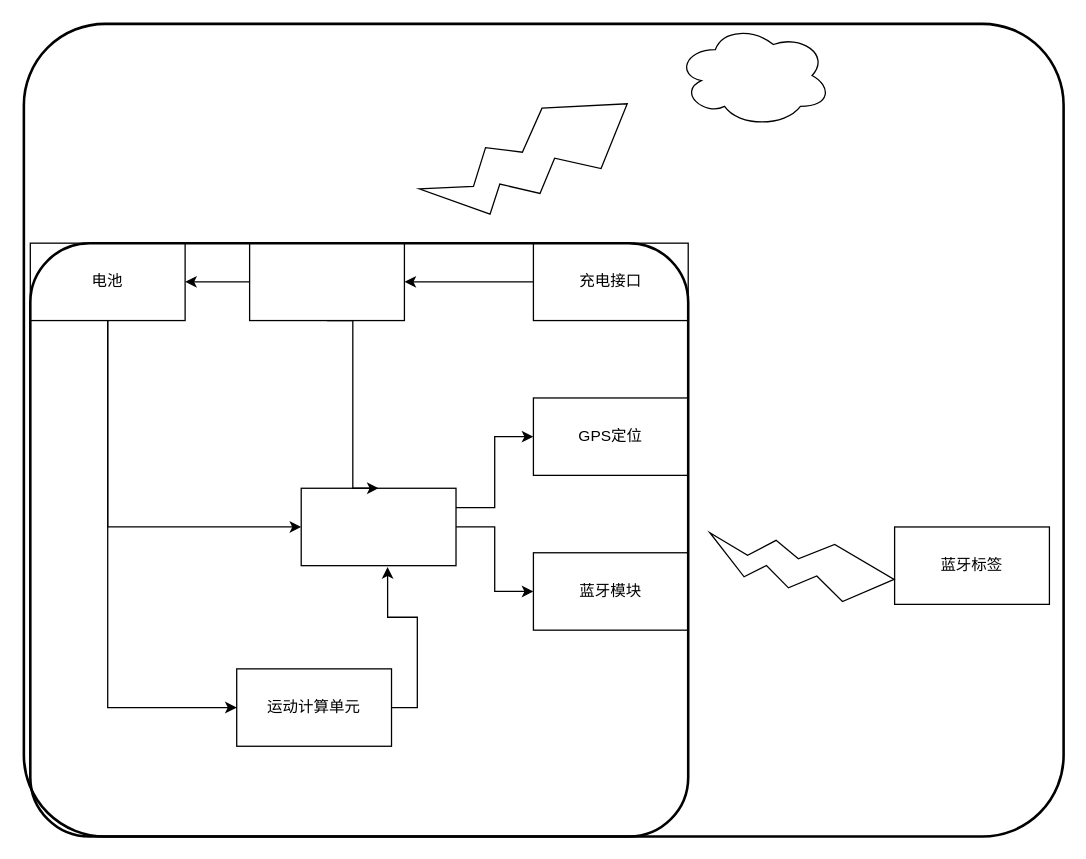
Some shapes in this 1086 by 859 pixel diagram are drawn without their labels. Here are the shapes that lost their labels. From the top down, the centre of each, then its label:
At (753,75): "云平台".
At (326,281): "充电电路".
At (378,526): "主控电路".
